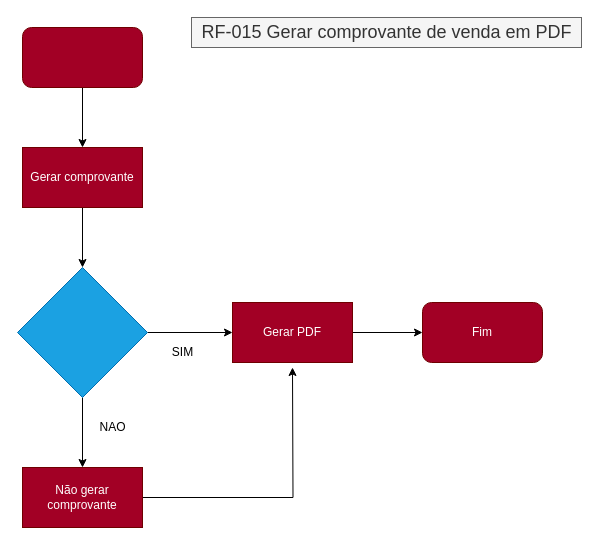
The diagram is 599 pixels wide and 545 high, and some of its shapes have lost their labels. Here are the shapes that lost their labels. From the top down, the centre of each, then its label:
At [82,57]: "Inicio".
At [82,332]: "Venda cadastrada?".
